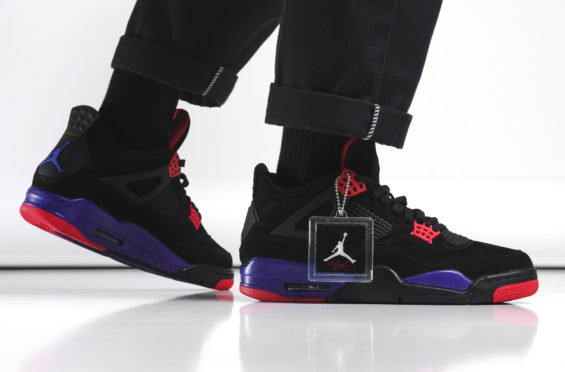Air Jordan 4 Raptors: (236, 137, 544, 306), (16, 78, 241, 289)
